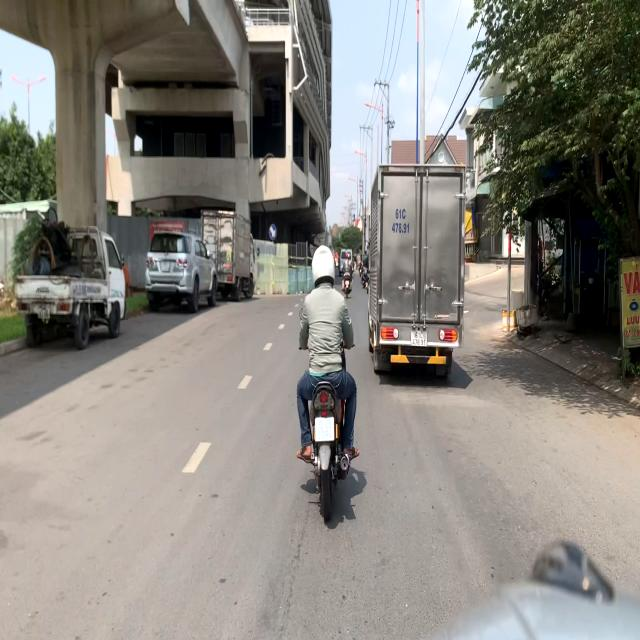R.302a: (268, 223, 278, 241)
